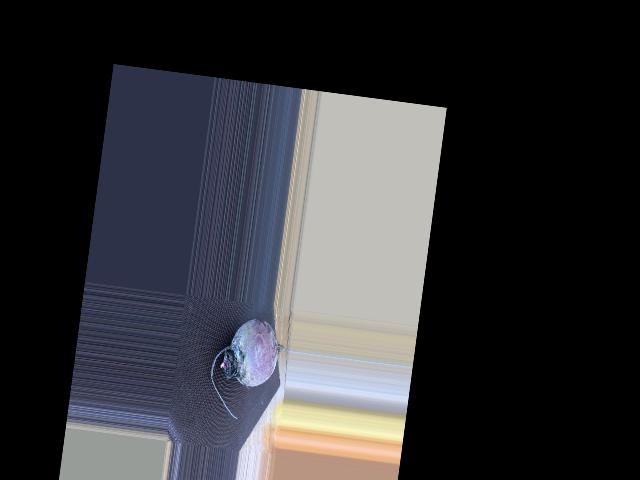beet: (205, 313, 293, 424)
